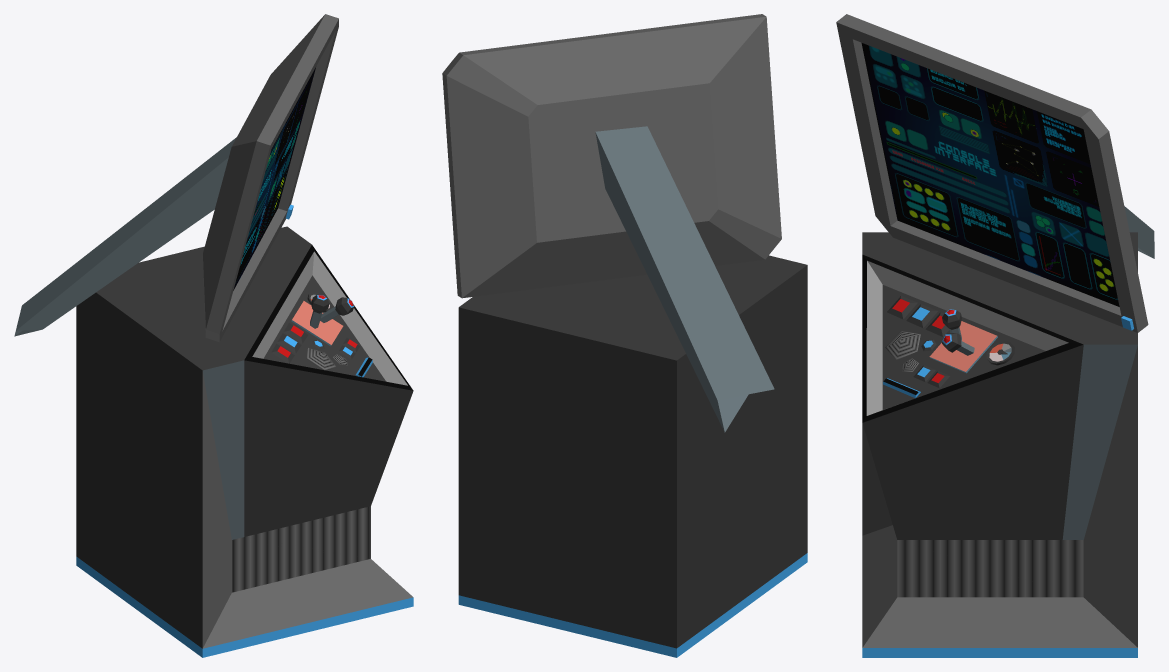
File: Door_Control_Panel_Scifi.fbx
3 renders of one model, left to right at view 1: azimuth 30°, elevation 25°; view 2: azimuth 150°, elevation 25°; view 3: azimuth 270°, elevation 25°, orthographic. The views are drawn at different scales.
Visible parts, largest first — view 1: Door_Control_Panel_Scifi; view 2: Door_Control_Panel_Scifi; view 3: Door_Control_Panel_Scifi.
Boxes of the visible parts, bbox=[...] form: Door_Control_Panel_Scifi: bbox=[14, 14, 413, 657]; Door_Control_Panel_Scifi: bbox=[442, 14, 807, 657]; Door_Control_Panel_Scifi: bbox=[836, 14, 1154, 657].
Size of the model in its own units: 135 by 204 by 106.
